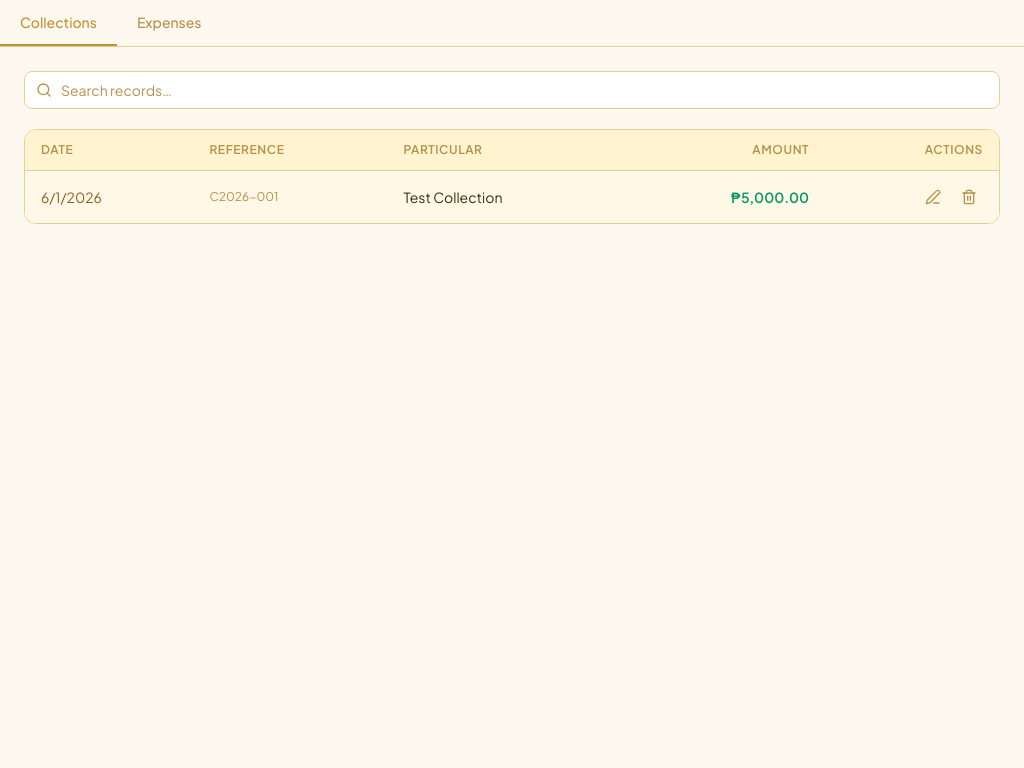
Scenario: FinancialRecordsManager — desktop restrictions › edit modal shows a read-only Total Amount summary row
Expected: the text "Test Collection" is shown, x1=388 y1=170 x2=625 y2=223
What coordinates should you click on to do the following:
click the button titled "Edit"
I would click on:
 (933, 197)
Its box is x1=919 y1=183 x2=947 y2=211.
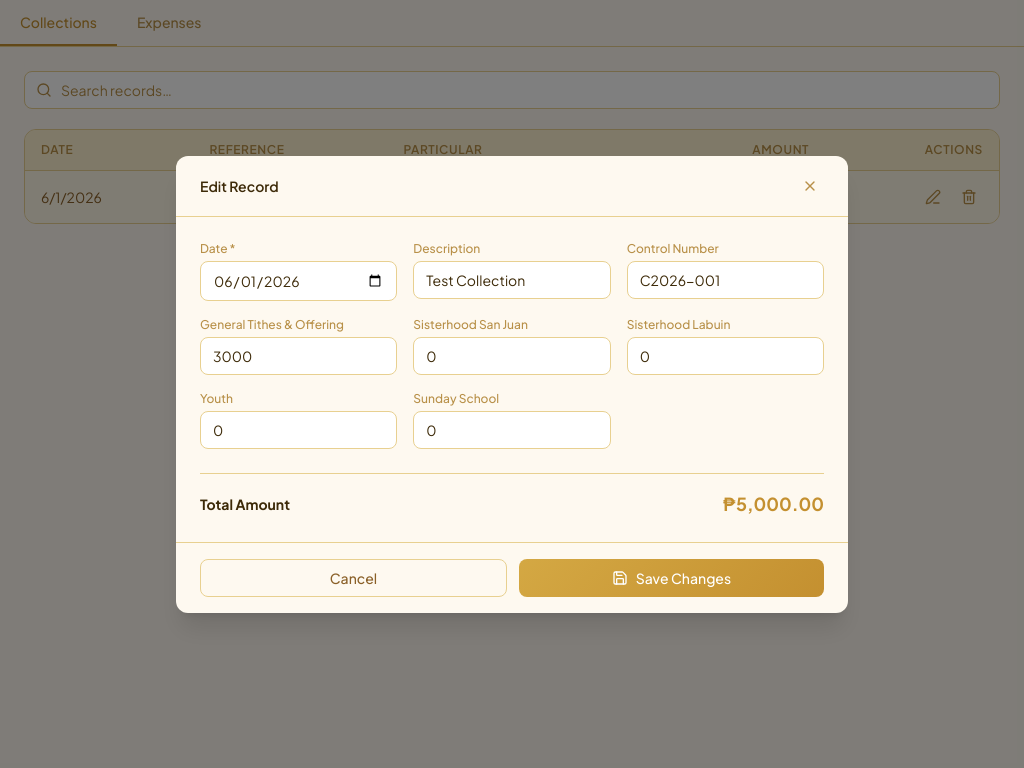
Now the text with test id "total-amount-summary-label" reads "Total Amount", box x1=200 y1=494 x2=290 y2=512
Now the text with test id "total-amount-summary-value" reads "₱5,000.00", box x1=722 y1=490 x2=824 y2=518
